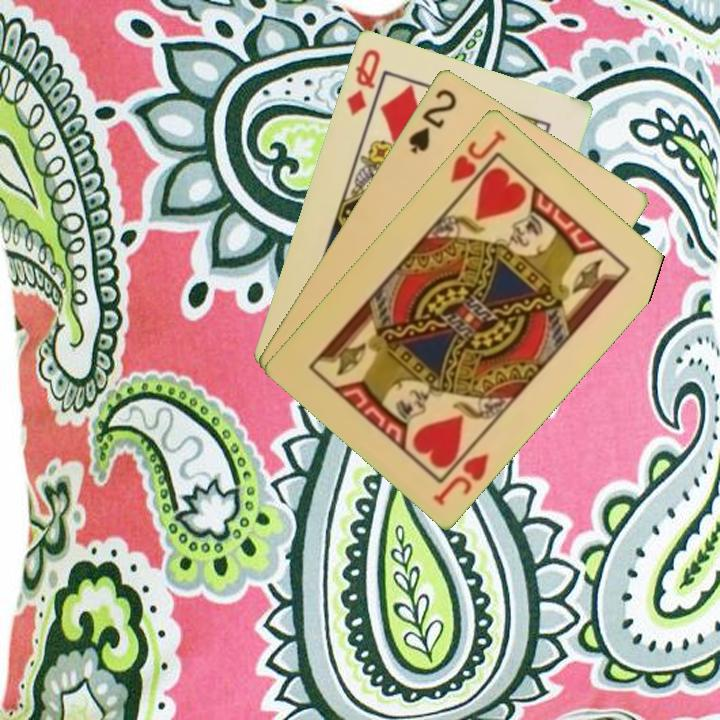2s: (404, 84, 460, 157)
Jh: (446, 126, 509, 185), (429, 449, 492, 508)
Qd: (342, 45, 383, 119)
